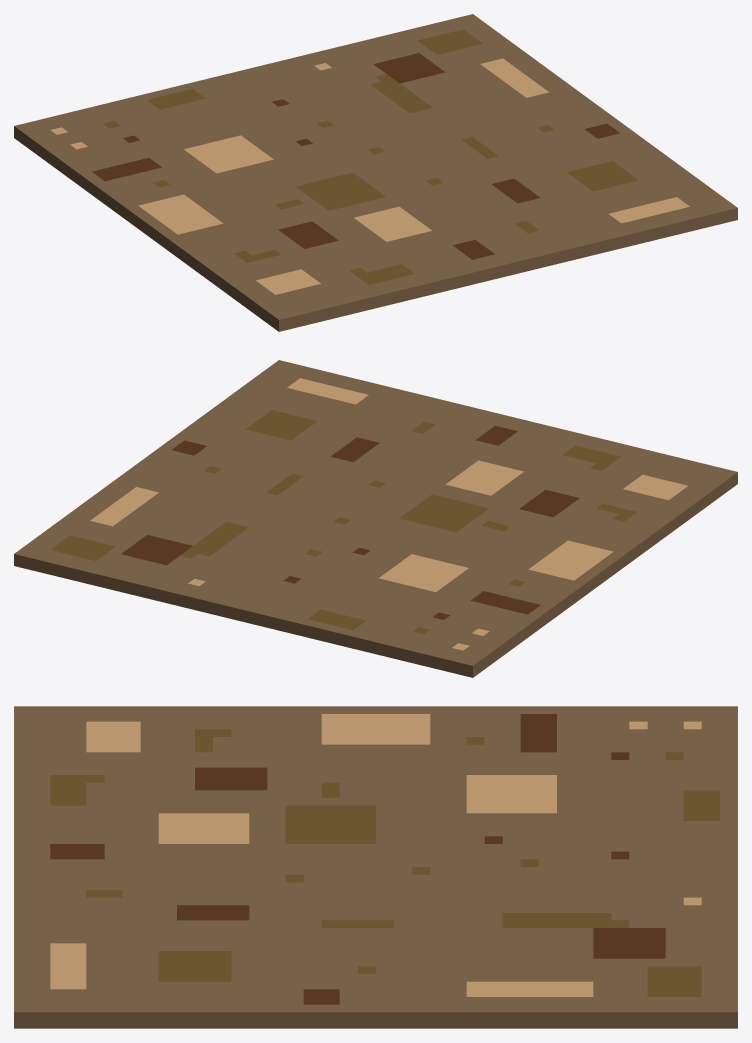
File: road3.obj
3 views of the same model, one above another, from view 1: azimuth 30°, elevation 25°; view 2: azimuth 150°, elevation 25°; view 3: azimuth 270°, elevation 25° (orthographic). The views are drawn at different scales.
Size of the model in its own units: 4 by 0.1 by 4.
1 material, 1 textured.
